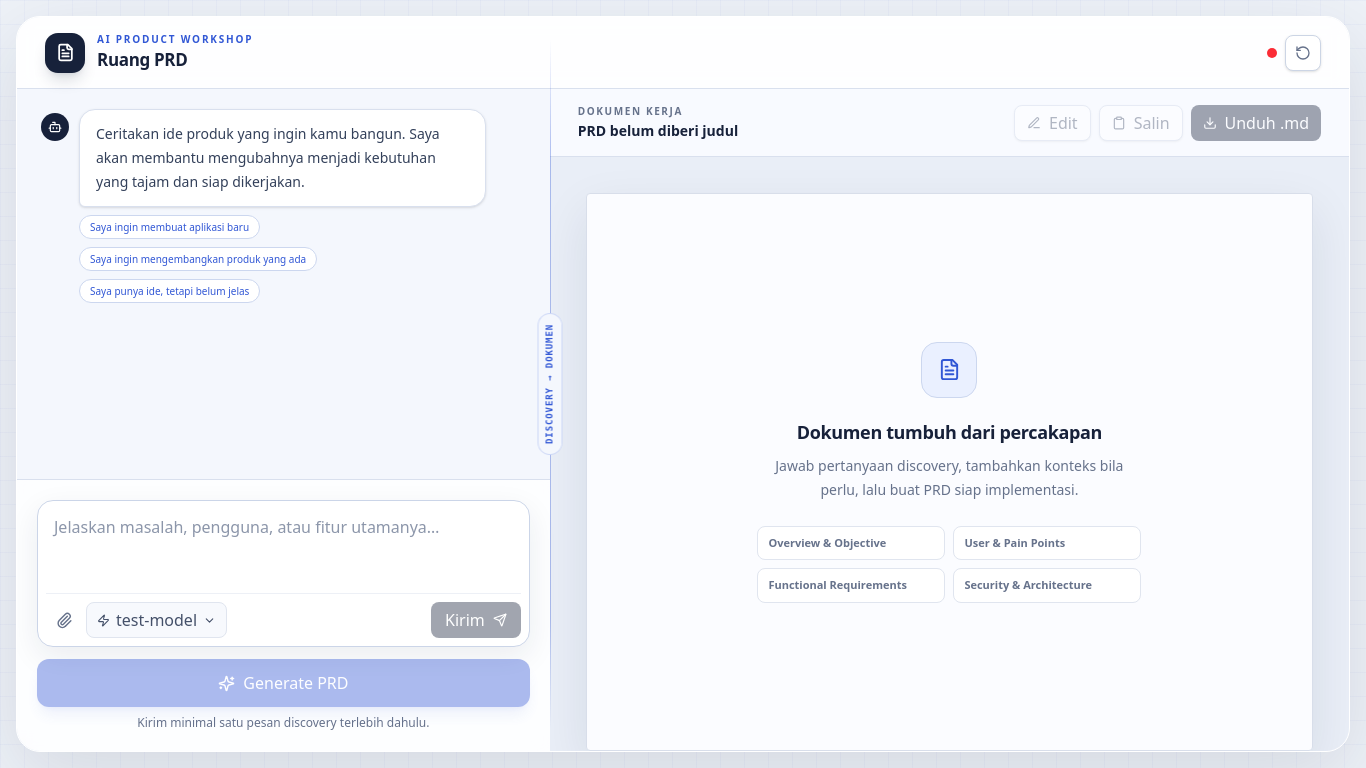
Test: Ruang PRD › menampilkan error dan dapat mencoba ulang
The width and height of the screenshot is (1366, 768).
Type "Ide produk" into the text box named "Pesan discovery".
click(283, 551); type("Ide produk")  # box [46,509,521,593]
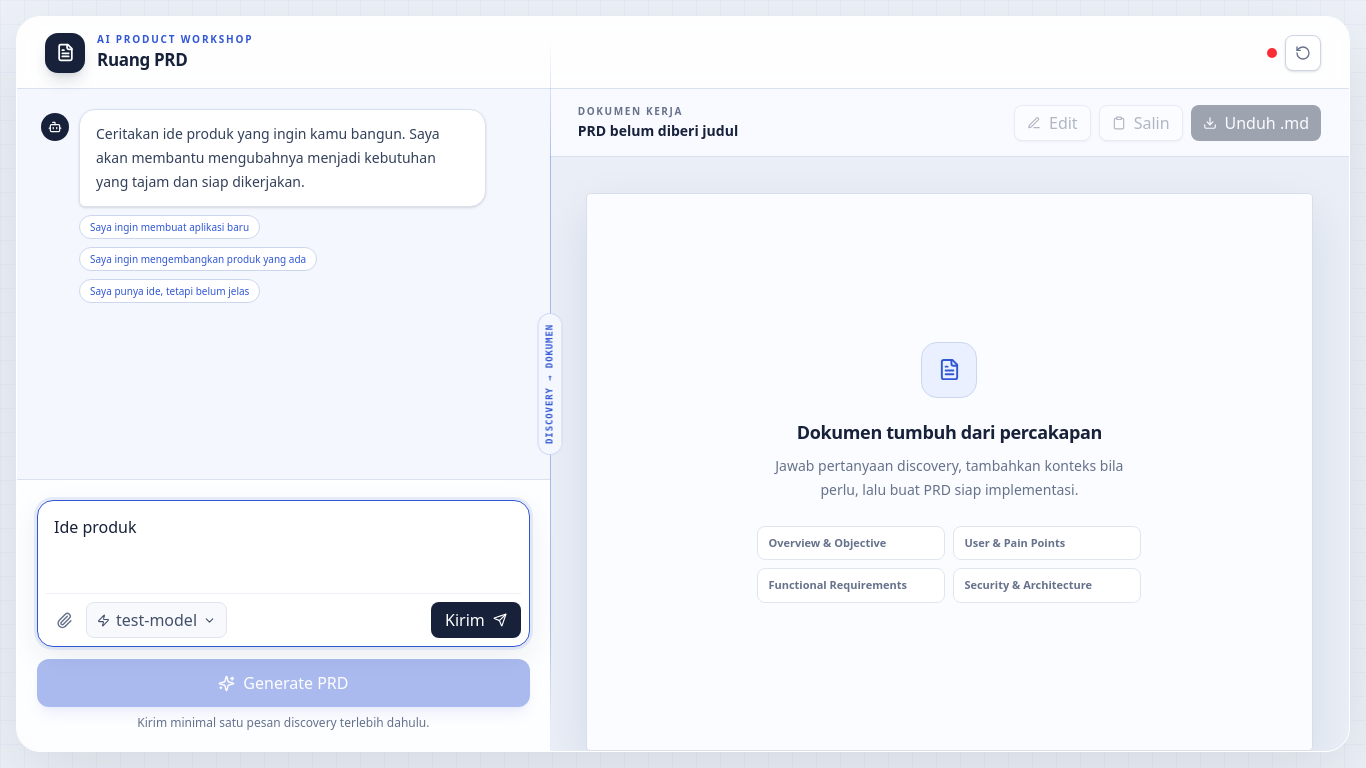
Click the button "Kirim".
click(476, 620)  # box [431,602,521,638]
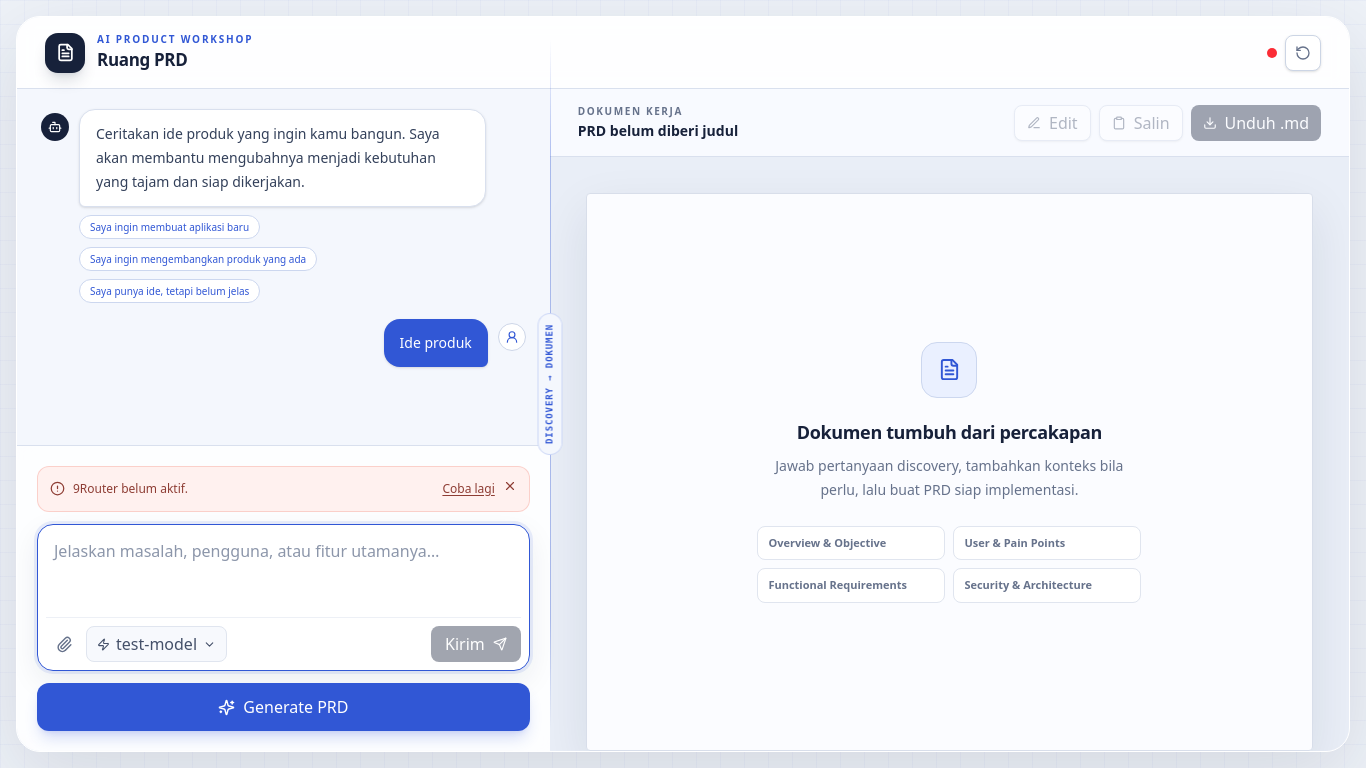
expect the text "9Router belum aktif." is shown: met, box [73,480,188,497]
Click the button "Coba lagi".
click(469, 489)  # box [442,479,495,499]
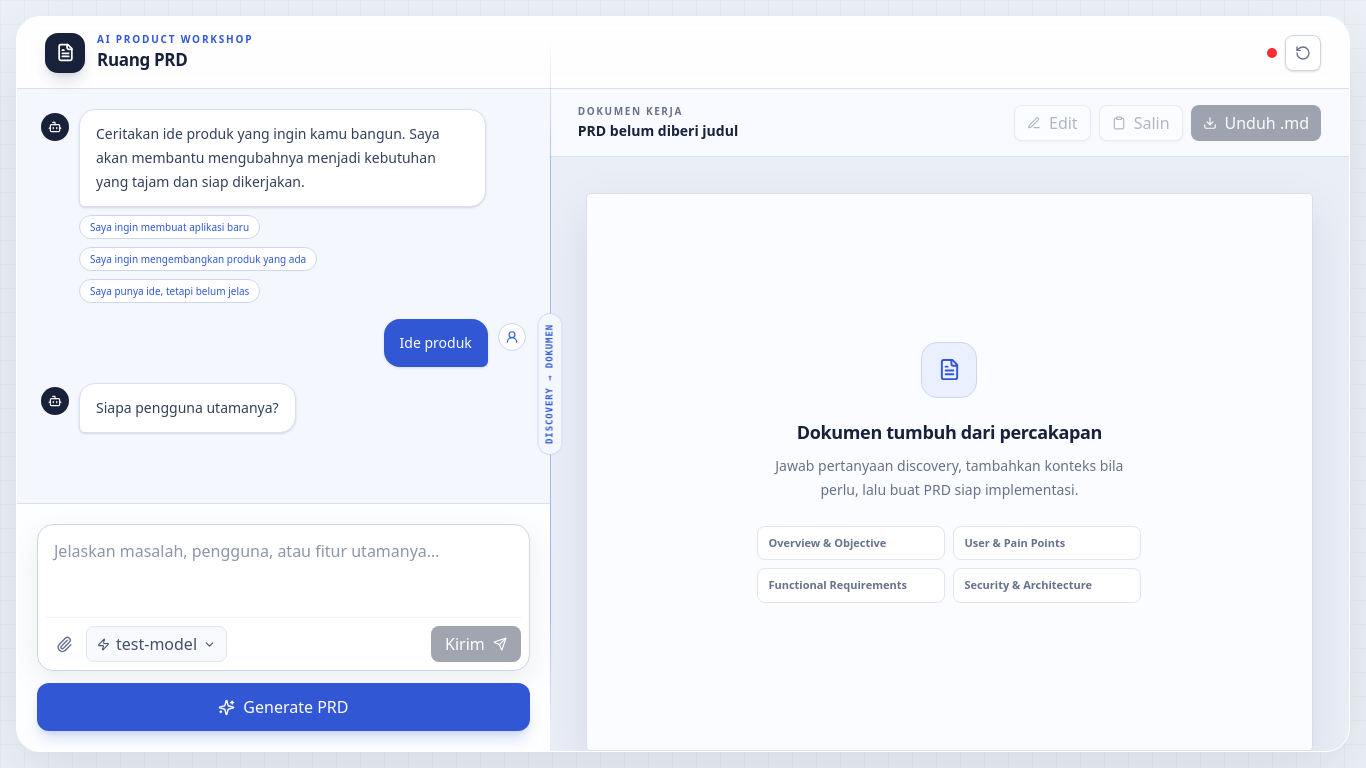
expect the text "Siapa pengguna utamanya?" is shown: met, box [96,396,279,420]
